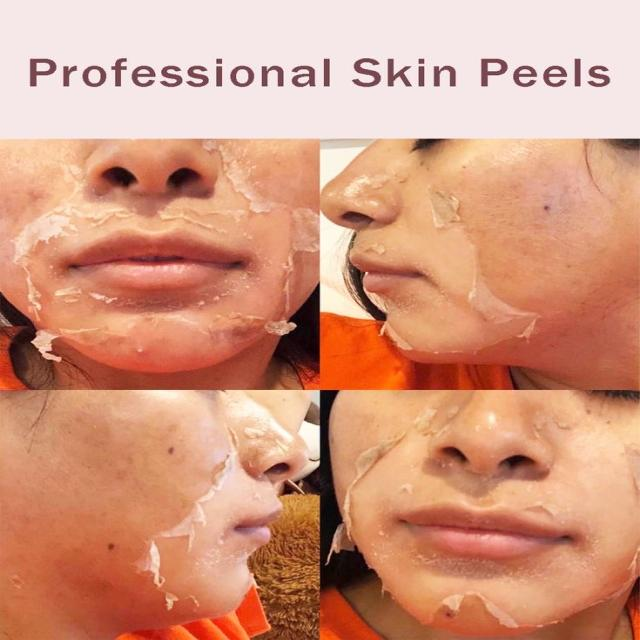Dry-Skin: (475, 162, 616, 289), (135, 436, 235, 600), (433, 207, 553, 319), (416, 555, 542, 640), (54, 451, 144, 560), (237, 145, 307, 263), (120, 304, 218, 369), (368, 413, 451, 487), (538, 412, 624, 483), (37, 169, 76, 323), (350, 478, 405, 582)
